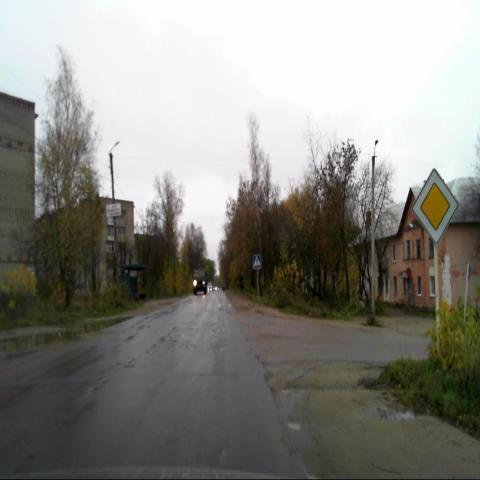2_1: (412, 168, 458, 243)
5_19_1: (253, 252, 261, 269)
